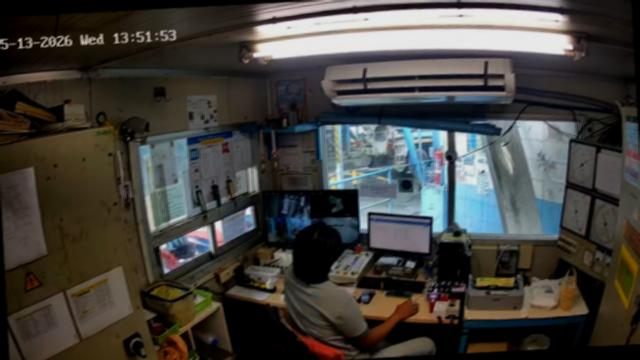Head: (293, 224, 344, 283)
People: (283, 224, 436, 359)
Phone: (357, 290, 376, 303), (386, 291, 413, 298)
